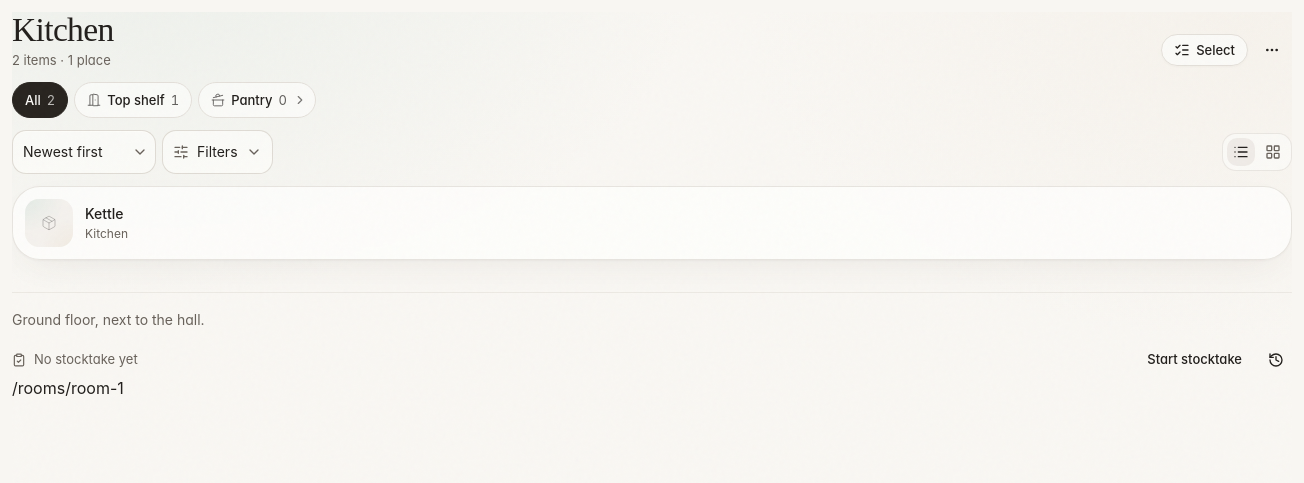
Scenario: RoomDetailPage › keeps management in the menu and offers Add photo only while there is none
Expected: the text "Add a photo." is not shown
What coordinates should you click on to do the following:
click the button named "Room options"
I would click on:
 (1272, 50)
Its box is [1252,30,1292,70].
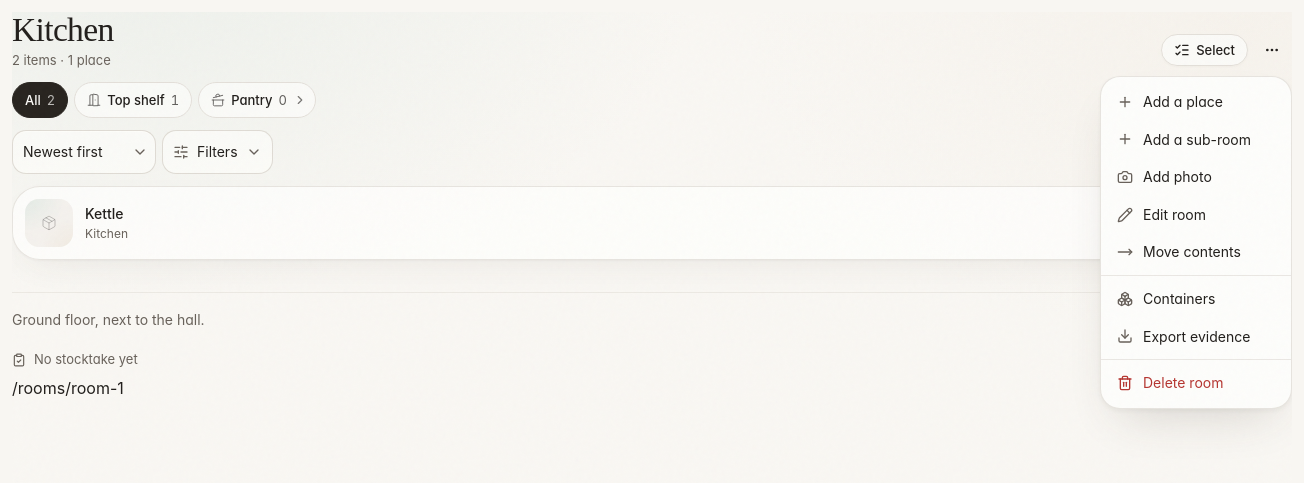
Now the menu item "Add a place" is shown, box [1117,93,1223,110]
Now the menu item "Add a sub-room" is shown, box [1117,131,1251,148]
Now the menu item "Edit room" is shown, box [1117,206,1206,223]
What coordinates should you click on to do the following:
click the menu item "Add photo"
I would click on:
 (1164, 177)
Its box is [1117,168,1212,185].
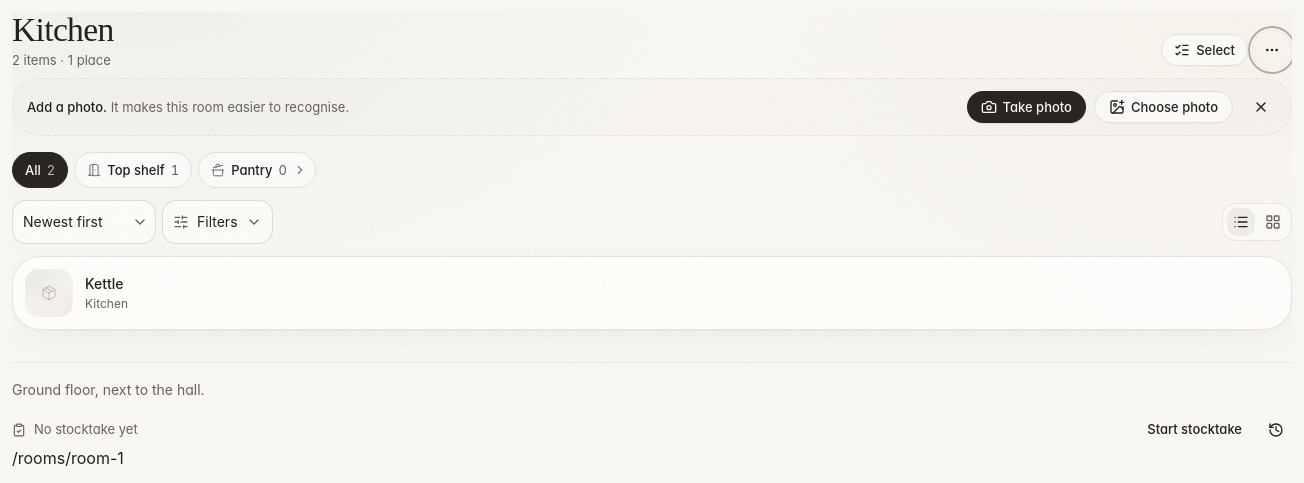
Now the text "Add a photo." is shown, box [27,99,107,115]
Now the button "Take photo" is shown, box [966,91,1086,123]
